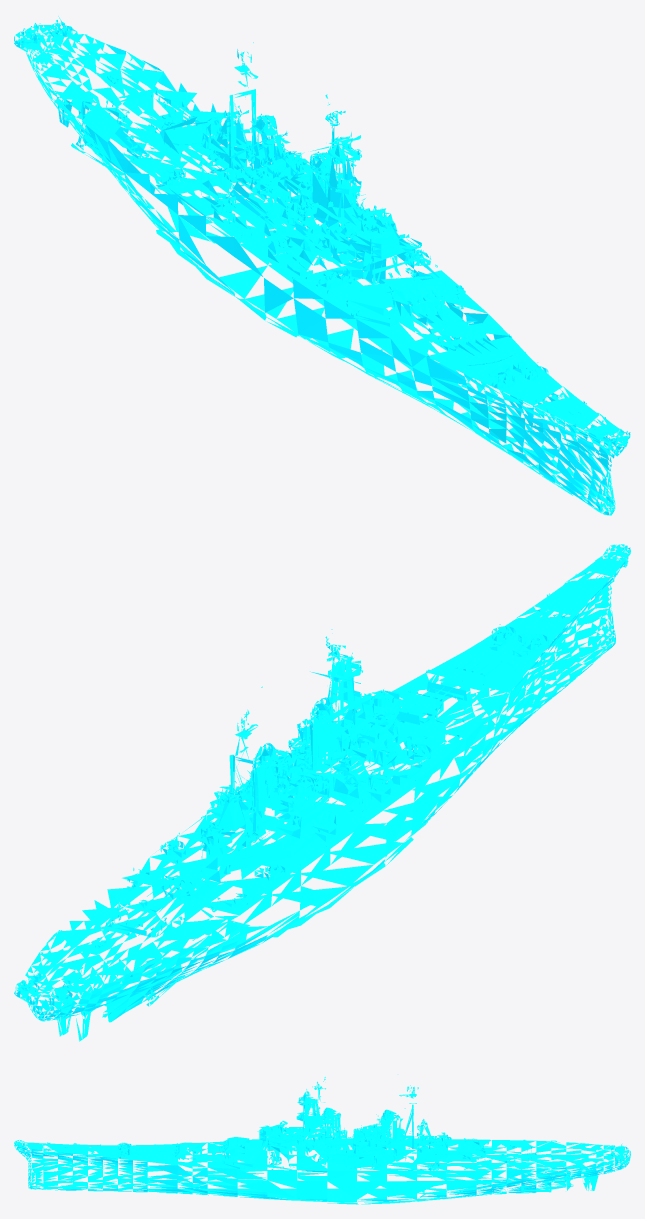
The model's file is Illinois.glb.
The picture shows the model from 3 angles, top to bottom: view 1: azimuth 30°, elevation 25°; view 2: azimuth 150°, elevation 25°; view 3: azimuth 270°, elevation 25°; orthographic projection. The views are drawn at different scales.
Size of the model in its own units: 2.26 by 3.77 by 18.03.
